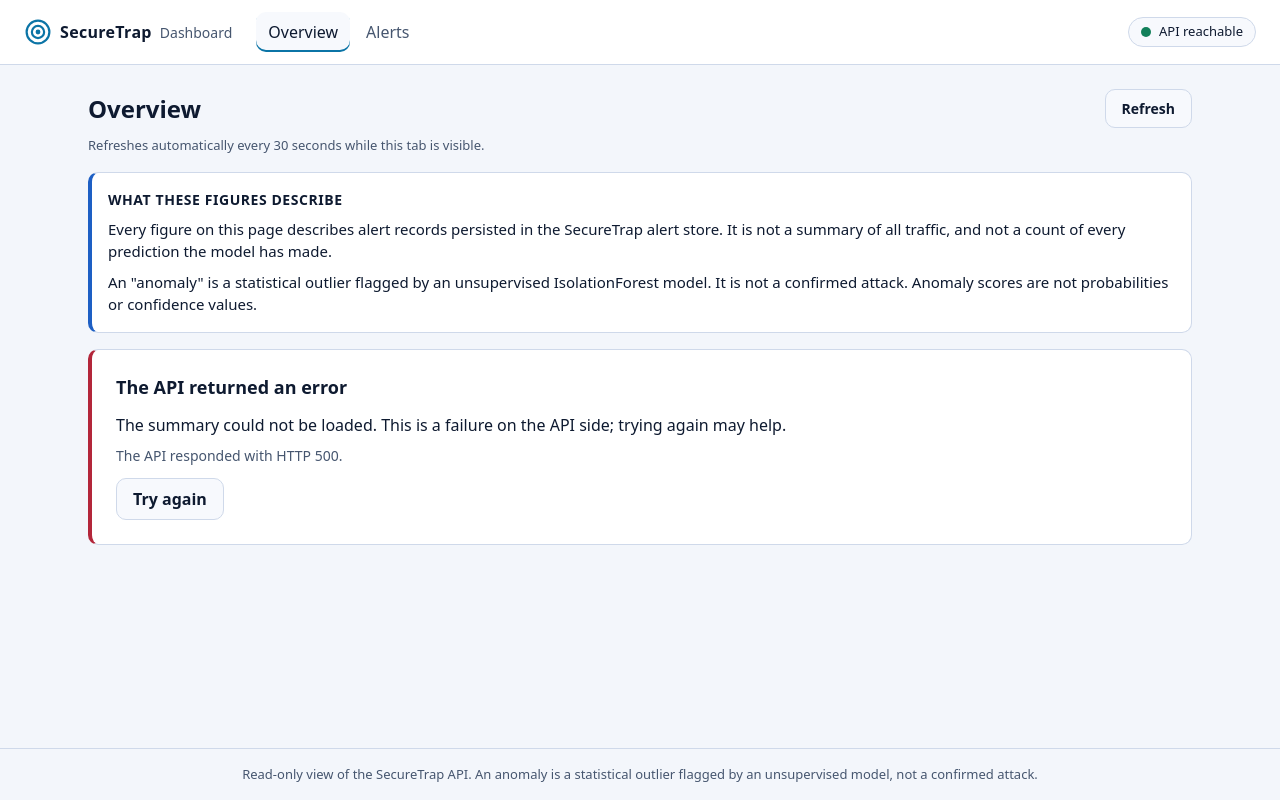
OverviewPage: error states › lets the user retry after an error
Expected: the heading "The API returned an error" is shown, [116,374,347,398]
Step 1. Click the button "Try again" → (170, 498), box [116,478,224,520]
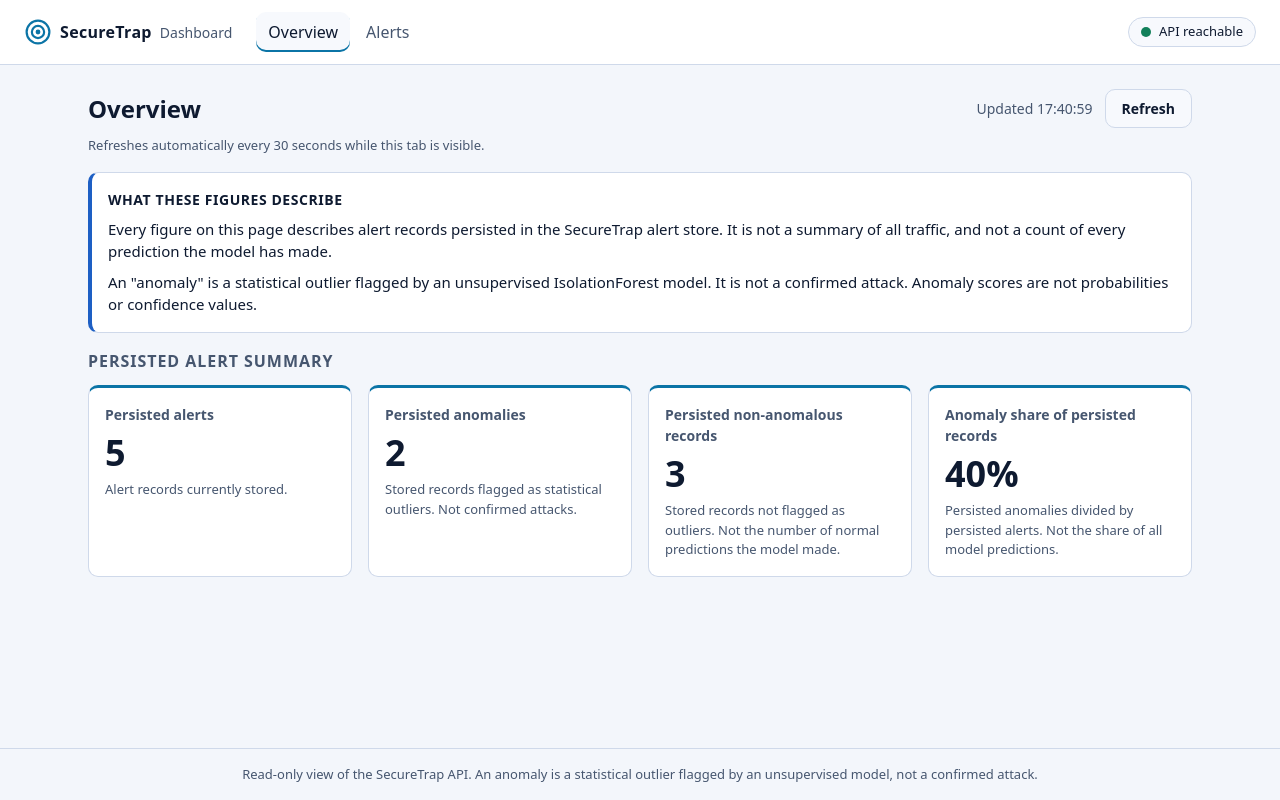
Now the element "Persisted alerts" is shown, box [88,384,352,577]
